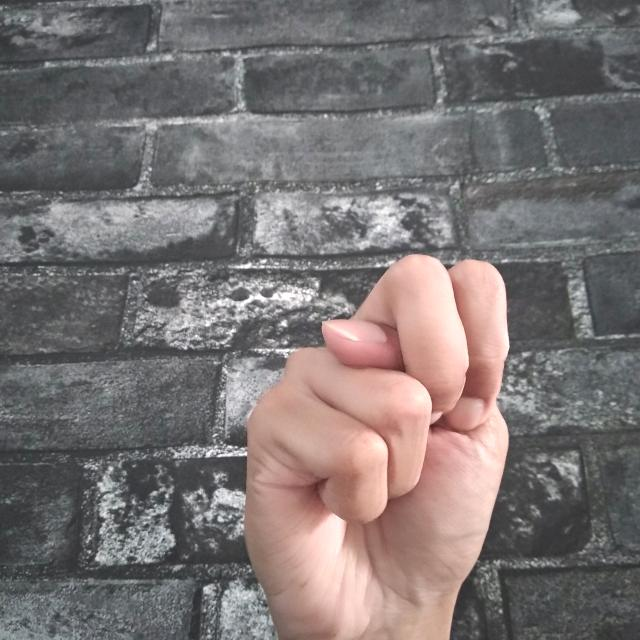N: (235, 247, 518, 640)
